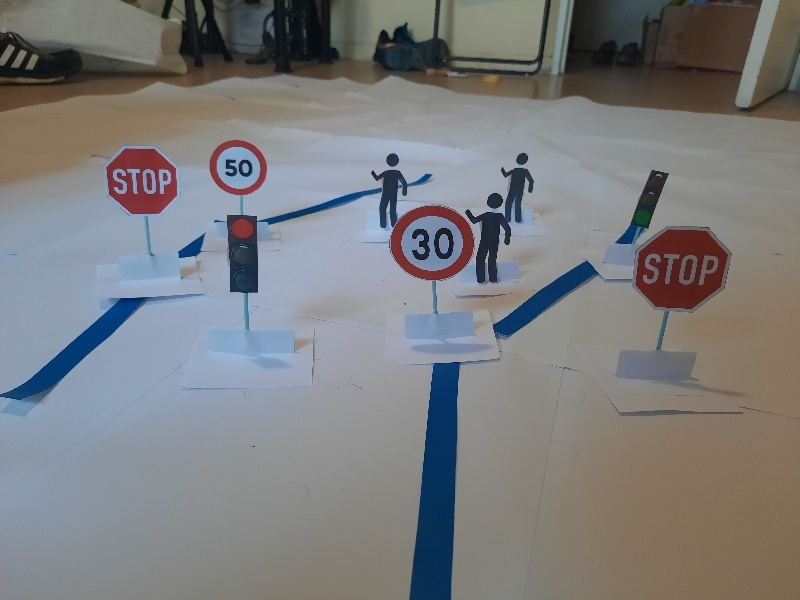Green: (631, 165, 666, 229)
Limit 30: (387, 206, 477, 283)
Limit 50: (211, 137, 268, 199)
Person: (465, 194, 510, 282), (368, 153, 405, 230), (500, 149, 535, 225)
Red: (225, 215, 262, 295)
Stop: (634, 224, 728, 311), (103, 144, 184, 219)
